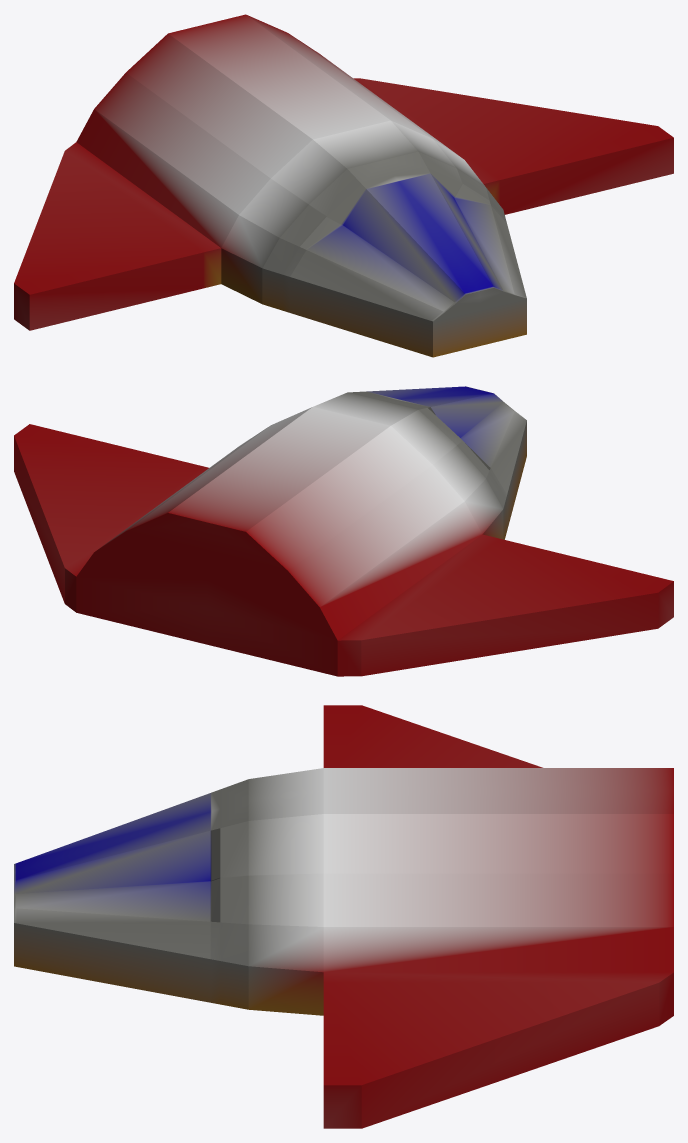
File: PlayerVessel.fbx
3 renders of one model, top to bottom at view 1: azimuth 30°, elevation 25°; view 2: azimuth 150°, elevation 25°; view 3: azimuth 270°, elevation 25°, orthographic. The views are drawn at different scales.
Parts seen in each view (by area): view 1: VesselBase.001; view 2: VesselBase.001; view 3: VesselBase.001.
Part boxes in pixels (<box>): VesselBase.001: <box>14,14,673,357</box>; VesselBase.001: <box>14,386,673,676</box>; VesselBase.001: <box>14,705,673,1128</box>.
Bounding box in the file's own units: 297 × 53.8 × 218.
